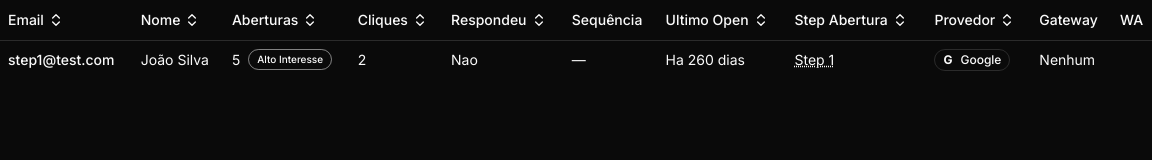
Scenario: LeadTrackingTable › step tooltip (Story 14.6 AC #1, #4) › exibe tooltip com subject para Step 1 (emailOpenedStep 0-based)
This screenshot has width=1152, height=160.
Hover over the text with test id "step-click-trigger": (814, 59) [794,50,834,68]
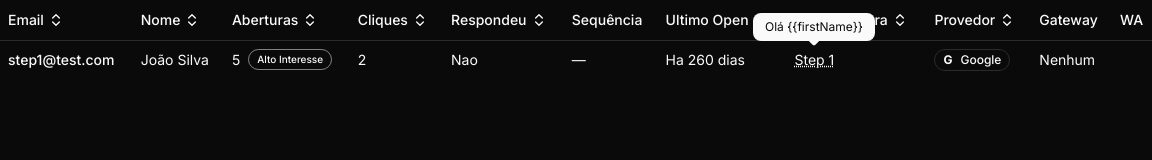
Check: the tooltip reads "Olá {{firstName}}", box [765,19,863,34]
